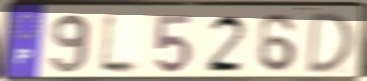2: (202, 14, 250, 74)
5: (151, 12, 197, 74)
6: (256, 12, 300, 75)
9: (49, 13, 91, 75)
D: (304, 10, 356, 76)
L: (97, 9, 142, 78)
